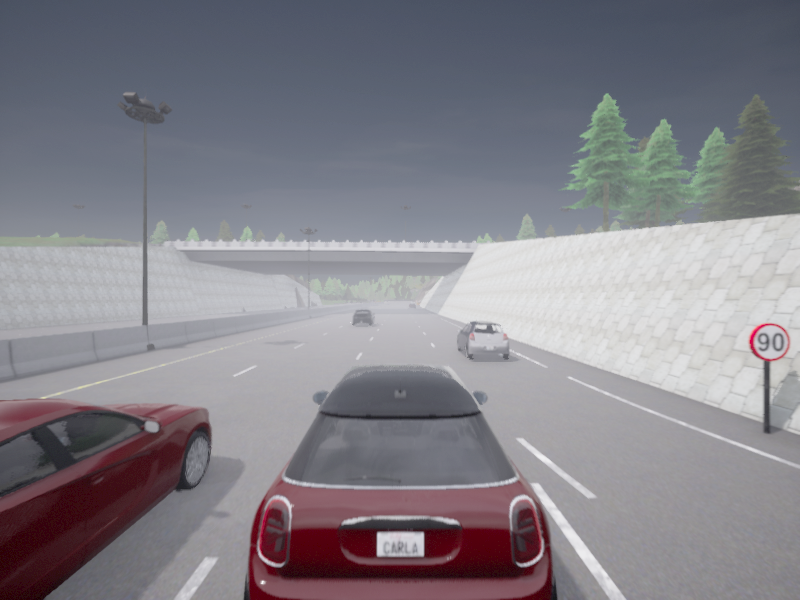vehicle: (243, 363, 557, 599), (0, 399, 211, 599), (457, 321, 509, 359), (352, 309, 375, 325), (408, 303, 415, 307)
